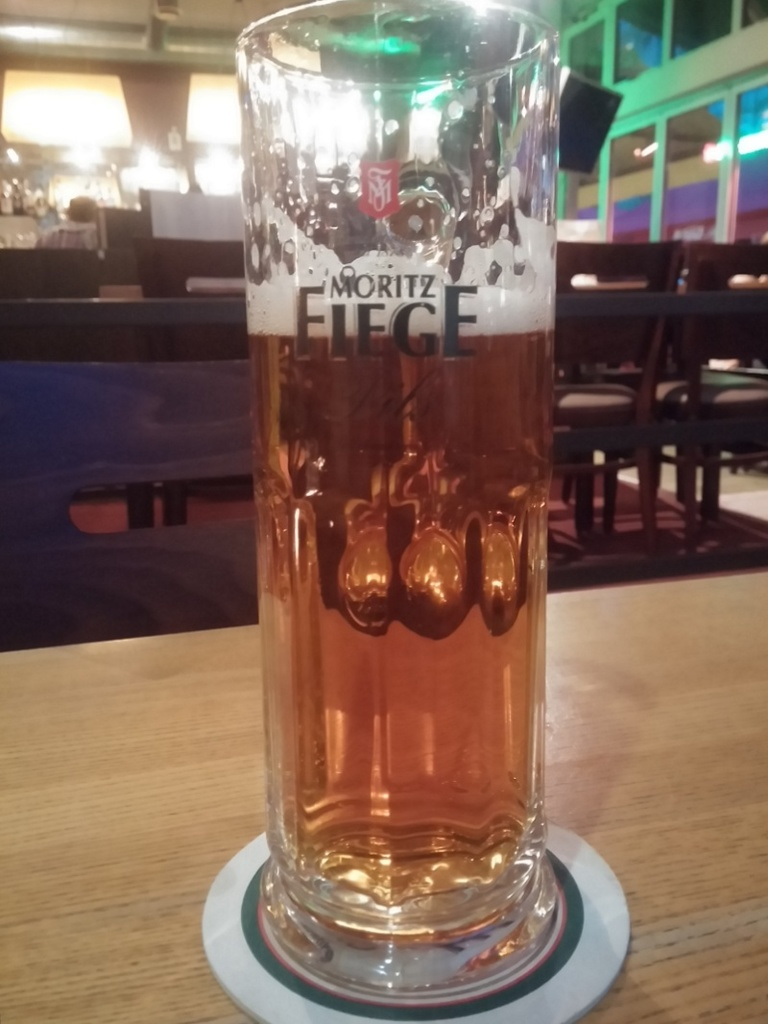Beer: (253, 249, 546, 866)
